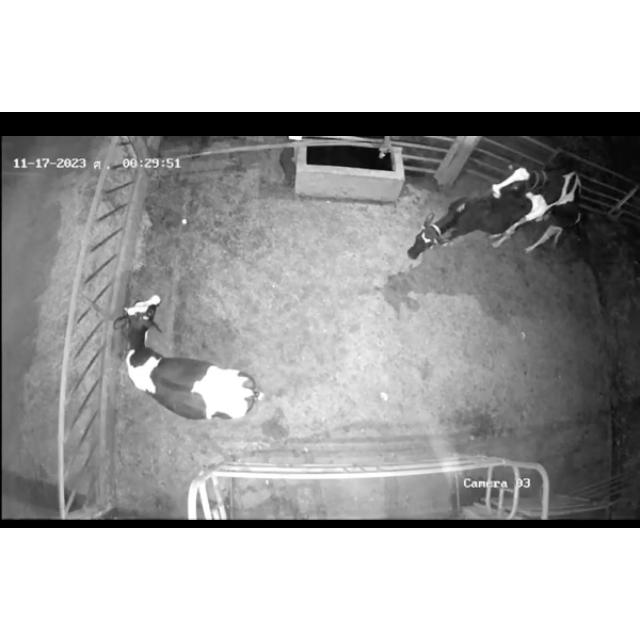ride: (485, 157, 595, 266)
